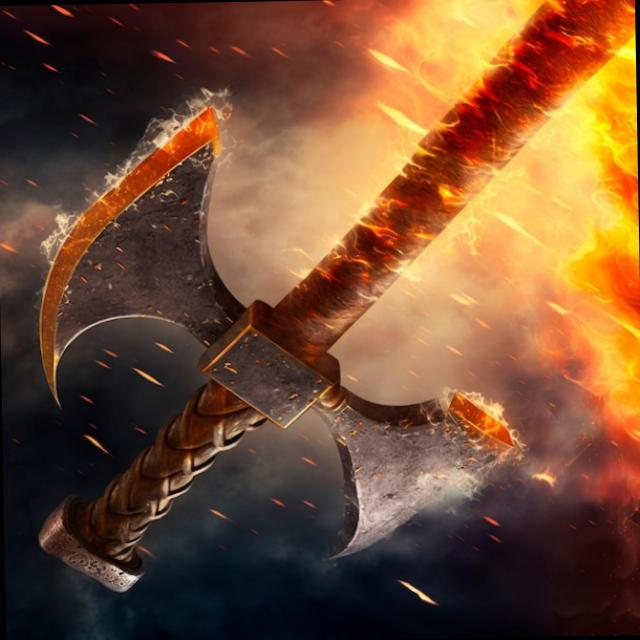Gun: (17, 48, 522, 600)
